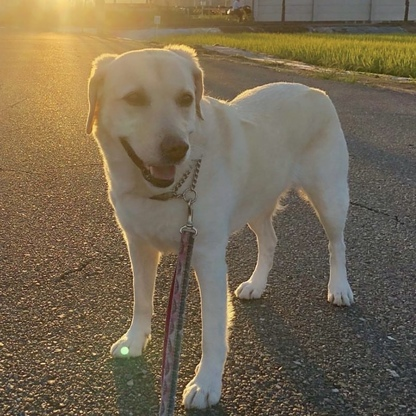labrado: (83, 40, 358, 413)
